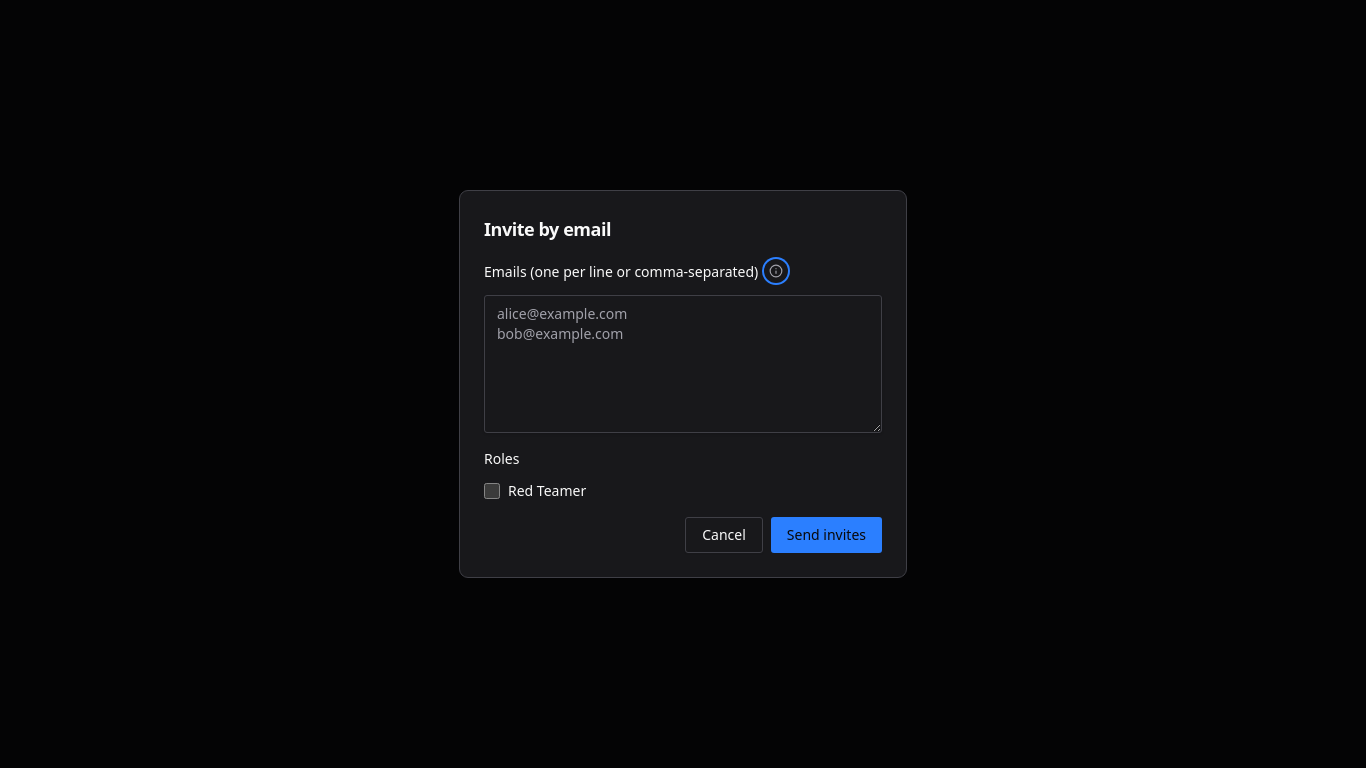
Scenario: evaluation-groups BulkInviteDialog — validation + dedup › surfaces an envelope-level 422 on the email field instead of failing silently
The image size is (1366, 768).
expect the text "Red Teamer" is shown: met, box [484,481,586,500]
In the text box labelled "Emails (one per line or comma-separated)": coordinates (683, 364) [484,295,882,433], type "ada@example.com"
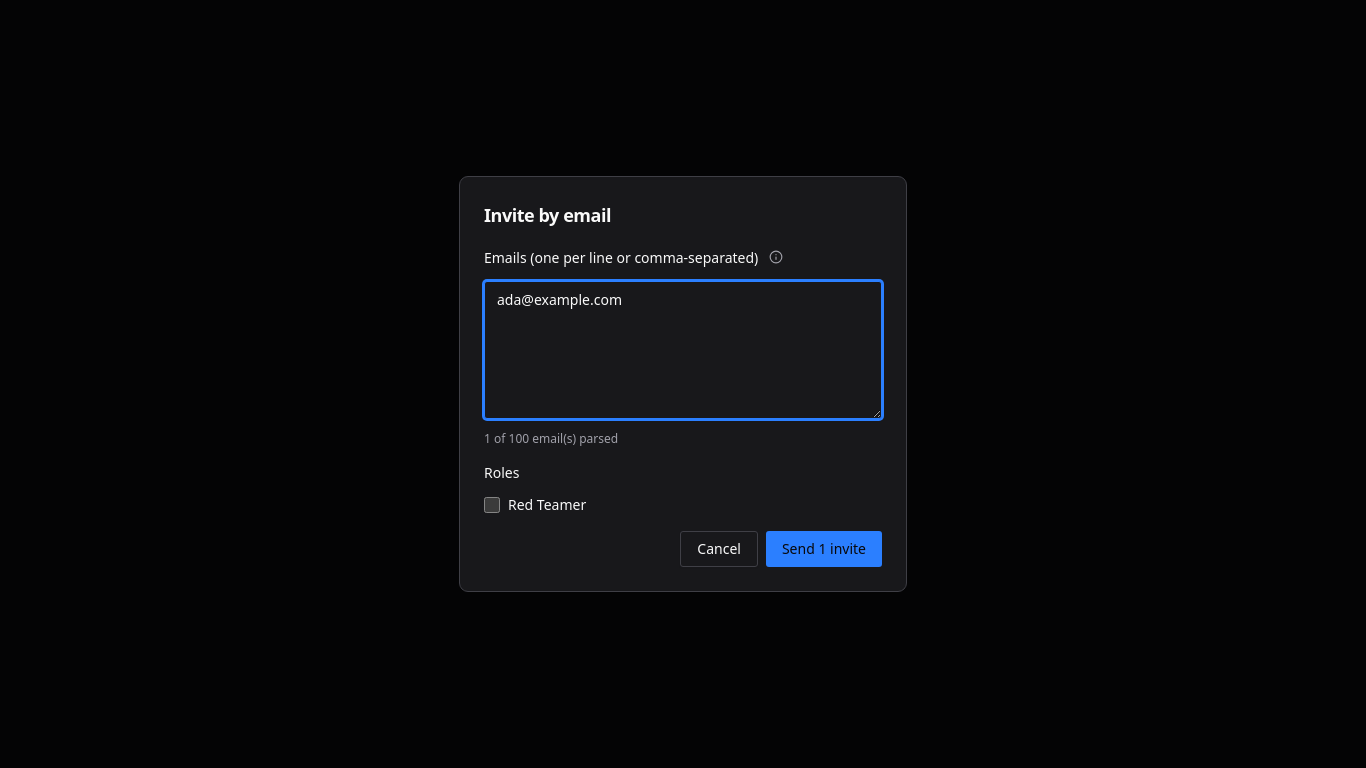
Click the checkbox labelled "Red Teamer": coordinates (492, 505) [484,497,500,513]
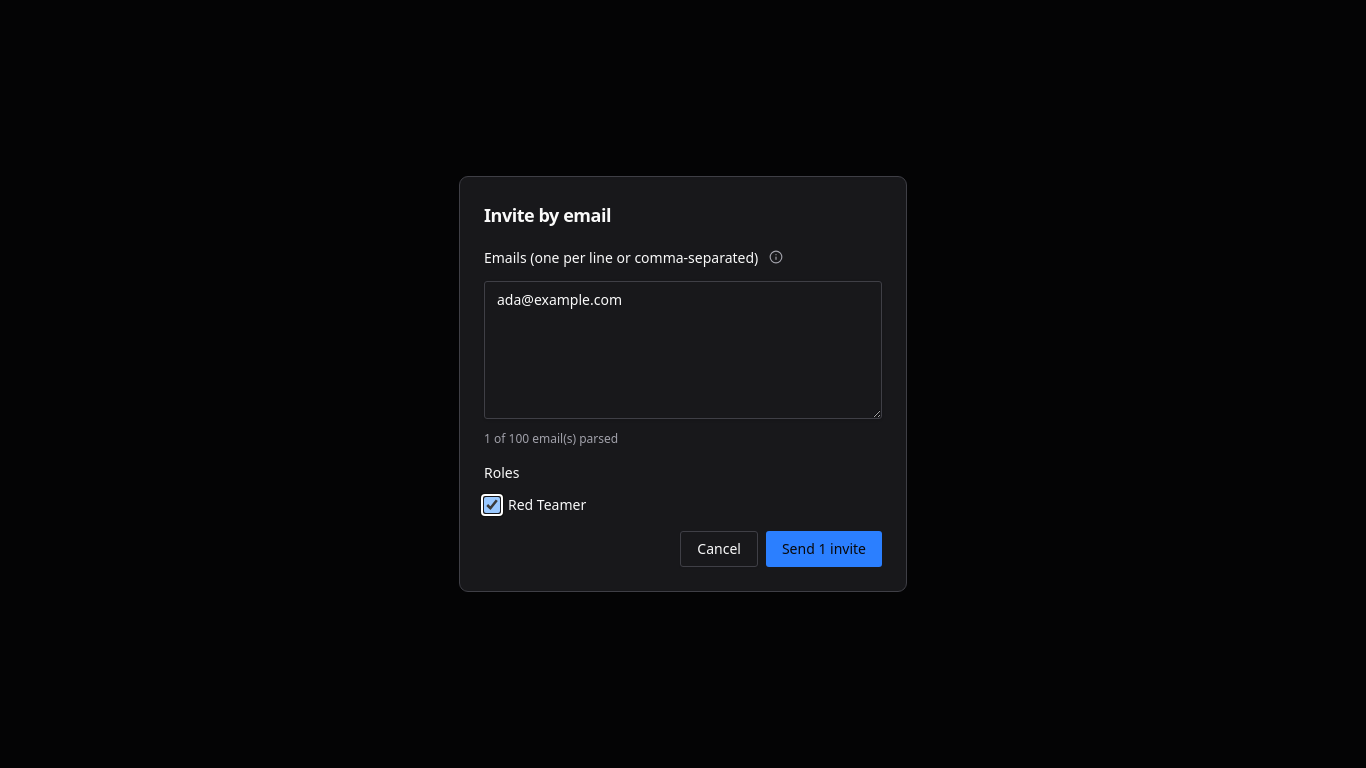
Click the button "Send 1 invite": coordinates (824, 549) [766,531,882,567]
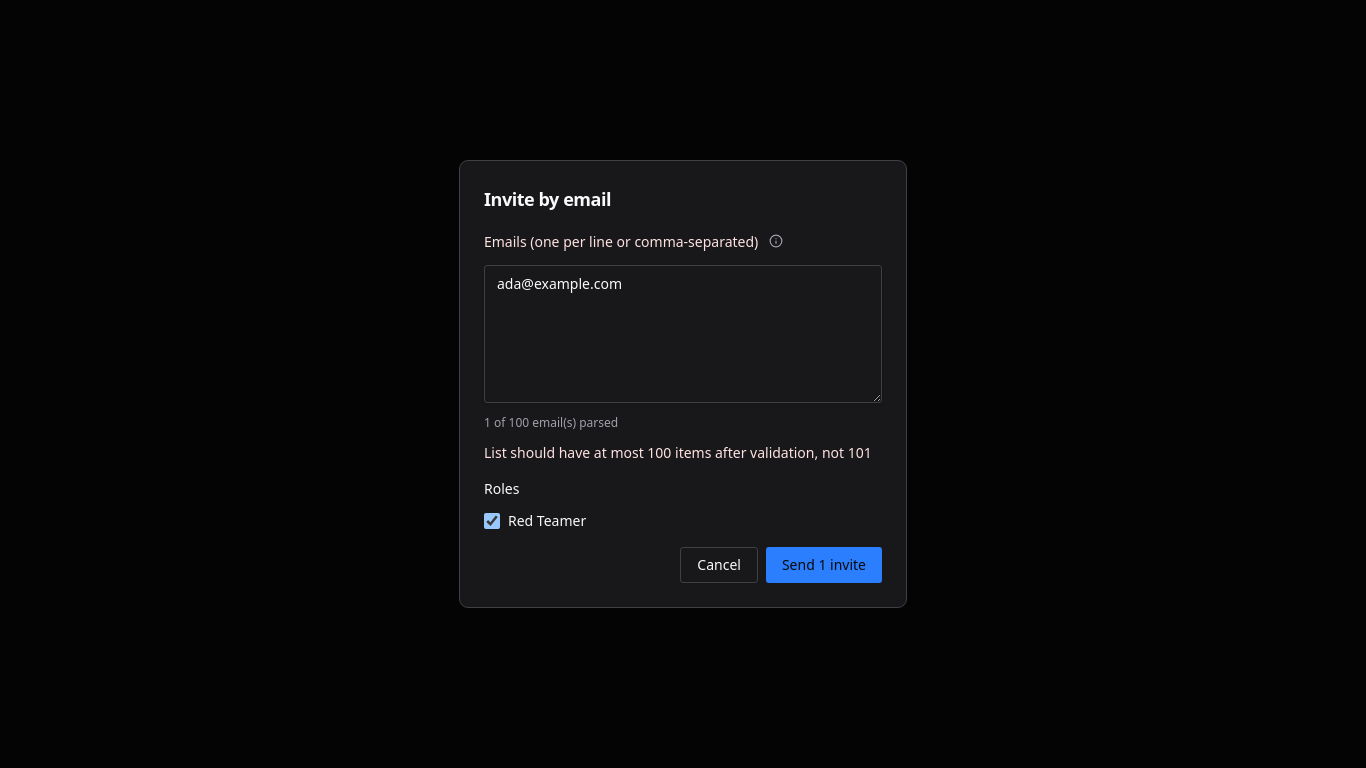
expect the text "List should have at most 100 items after validation, not 101" is shown: met, box [484,443,882,463]
